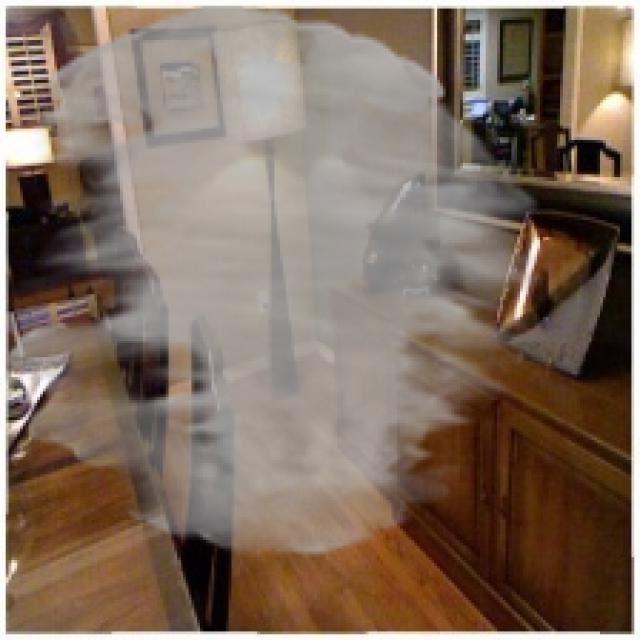Smoke: (8, 5, 543, 558)
